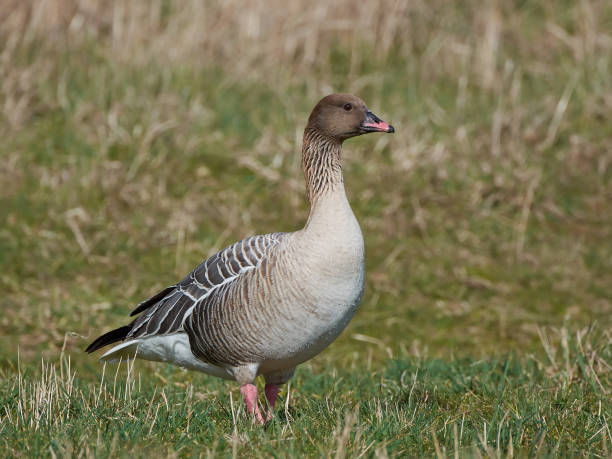goose: (80, 90, 402, 441)
